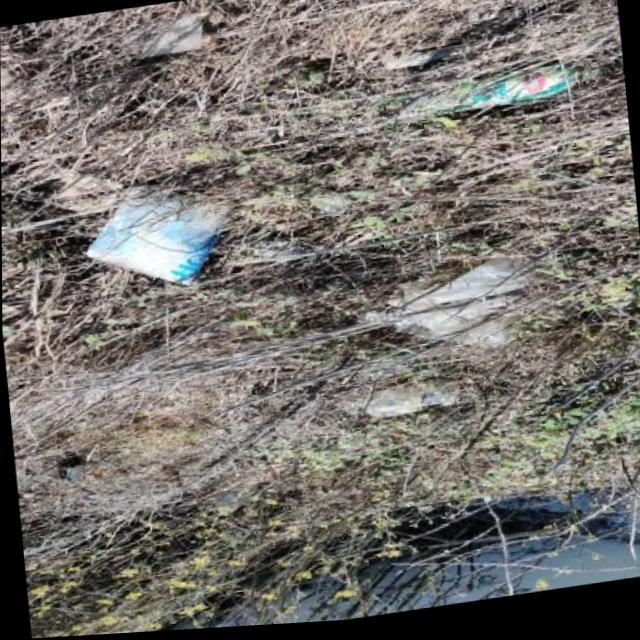plastic: (381, 249, 539, 364), (385, 55, 600, 125)
